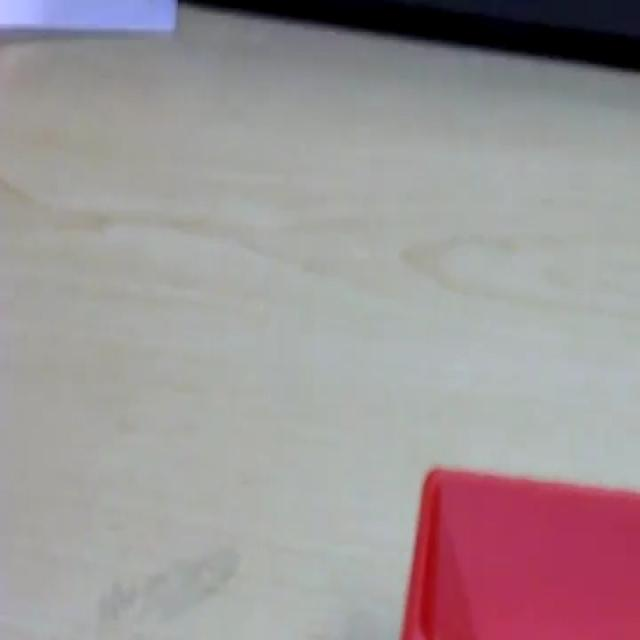red_block: (398, 463, 638, 637)
